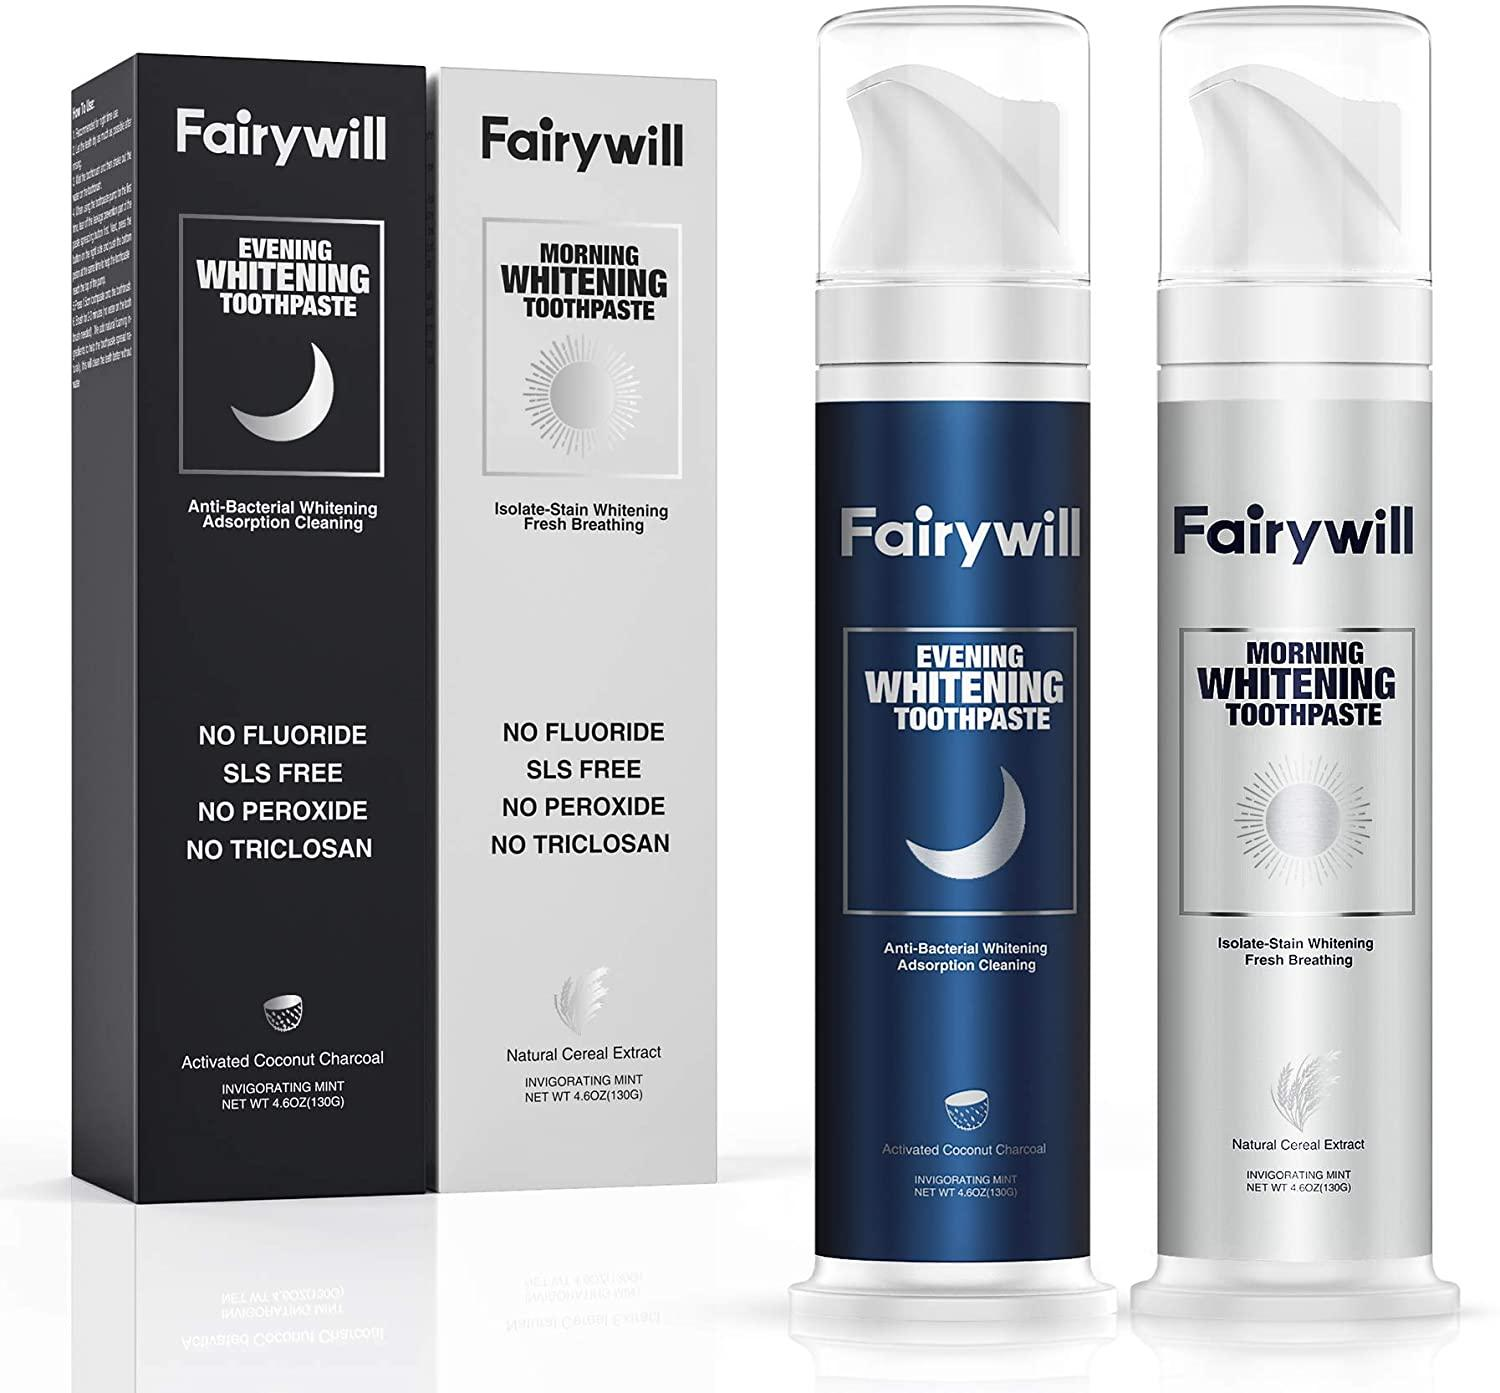toothpaste: (64, 29, 428, 1221), (441, 55, 721, 1190)
